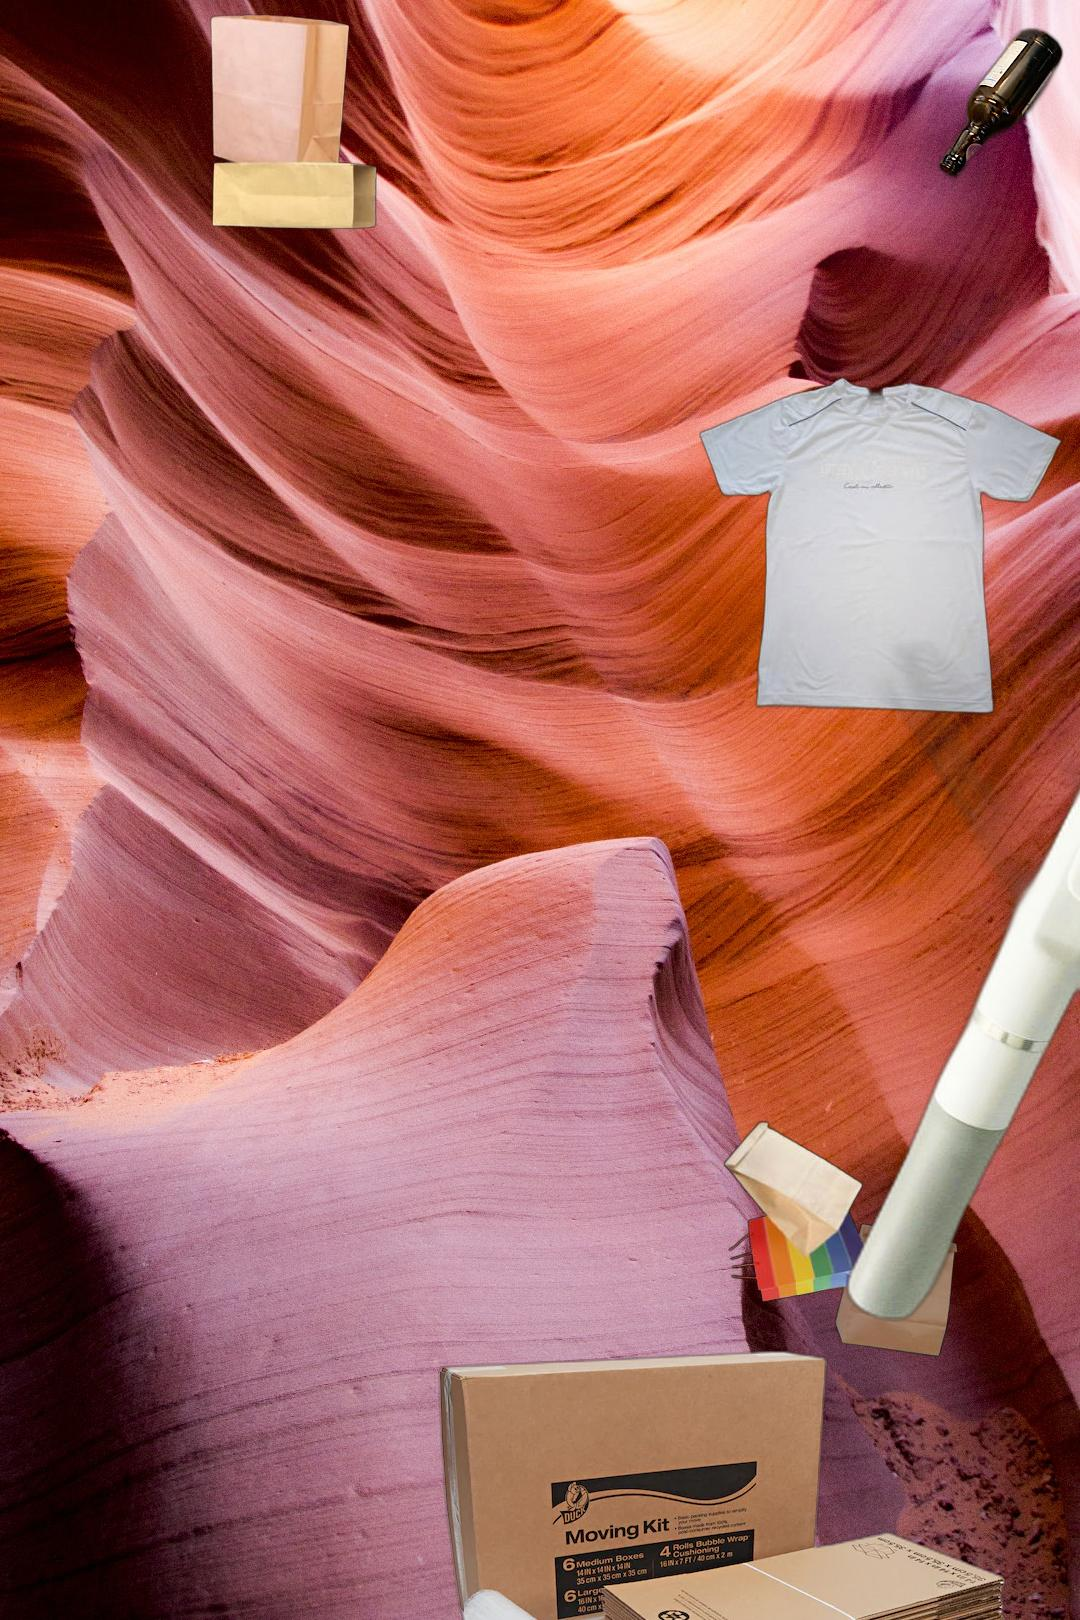clothes: (695, 372, 1064, 720)
glass: (934, 22, 1068, 187)
paper-bag: (708, 1088, 961, 1358), (196, 12, 378, 240)
penholder: (838, 542, 1080, 1452)
trashbox-cardboard: (388, 1345, 1011, 1620)
